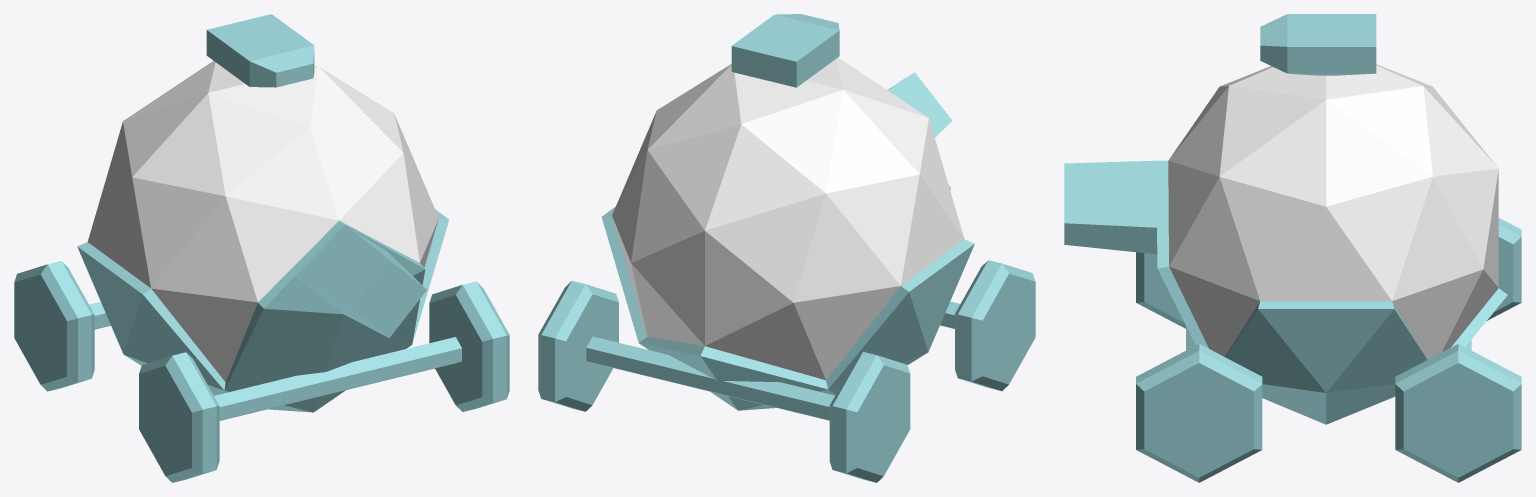
The model's file is bubble car.fbx.
3 views of the same model, side by side, from view 1: azimuth 30°, elevation 25°; view 2: azimuth 150°, elevation 25°; view 3: azimuth 270°, elevation 25° (orthographic). The views are drawn at different scales.
Visible parts, largest first — view 1: pPlatonic1, polySurface3, polySurface1, pCube1; view 2: pPlatonic1, polySurface1, polySurface3, pCube1; view 3: pPlatonic1, polySurface1, polySurface3, pCube1.
Boxes of the visible parts, <box> form: pPlatonic1: <box>77,61,448,412</box>; polySurface3: <box>139,281,509,482</box>; polySurface1: <box>14,261,110,391</box>; pCube1: <box>206,14,314,87</box>; pPlatonic1: <box>601,57,974,410</box>; polySurface1: <box>538,281,910,482</box>; polySurface3: <box>940,260,1035,391</box>; pCube1: <box>731,14,839,87</box>; pPlatonic1: <box>1064,64,1507,424</box>; polySurface1: <box>1395,218,1521,482</box>; polySurface3: <box>1136,252,1262,482</box>; pCube1: <box>1260,14,1376,75</box>.
Size of the model in its own units: 2.06 by 2.24 by 2.48.
